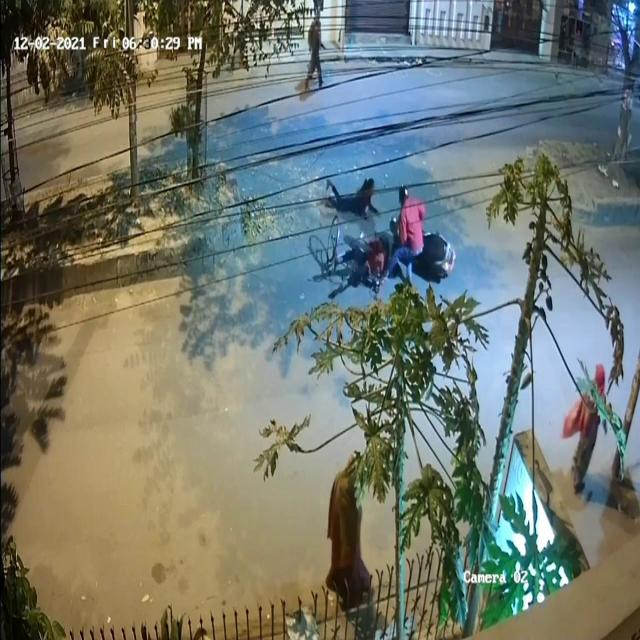accident: (308, 174, 459, 302)
